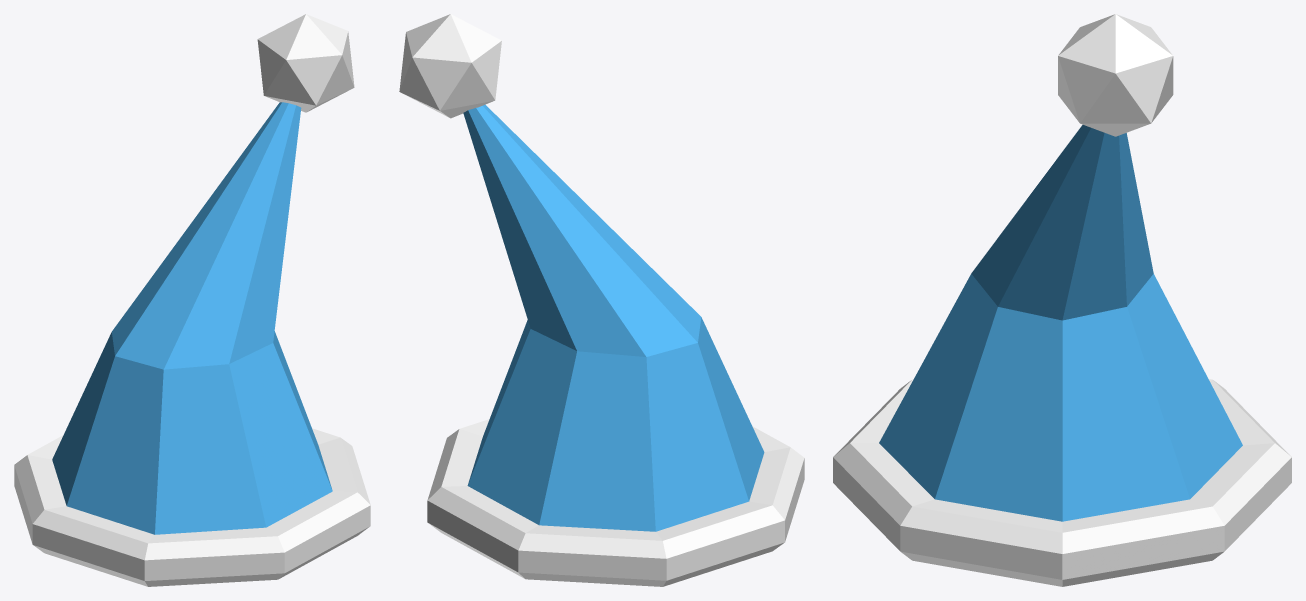
Rendered from ac_househat.fbx.
3 renders of one model, left to right at view 1: azimuth 30°, elevation 25°; view 2: azimuth 150°, elevation 25°; view 3: azimuth 270°, elevation 25°, orthographic. The views are drawn at different scales.
Parts seen in each view (by area): view 1: househat; view 2: househat; view 3: househat.
Boxes of the visible parts, <box> form: househat: <box>14,14,370,586</box>; househat: <box>399,14,804,586</box>; househat: <box>833,14,1291,586</box>.
Bounding box in the file's own units: 211 × 272 × 200.
